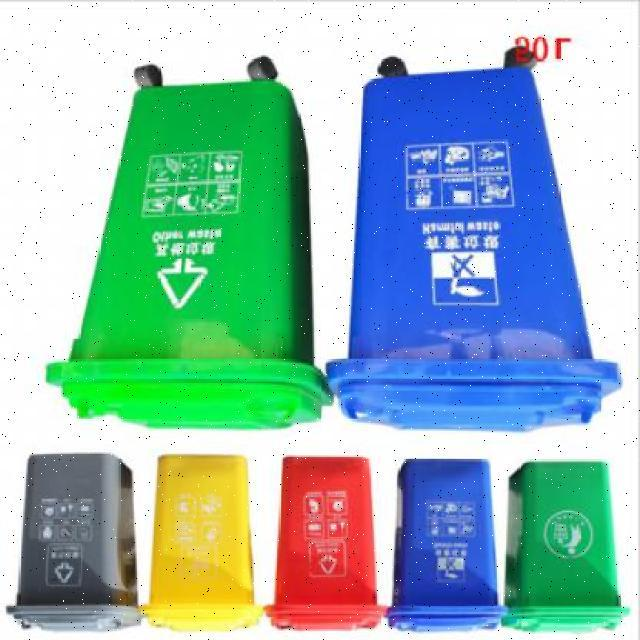garbage container: (320, 37, 631, 440), (48, 40, 330, 443), (499, 445, 635, 639), (3, 454, 142, 637), (382, 451, 507, 640), (140, 453, 265, 636), (264, 458, 390, 635)
